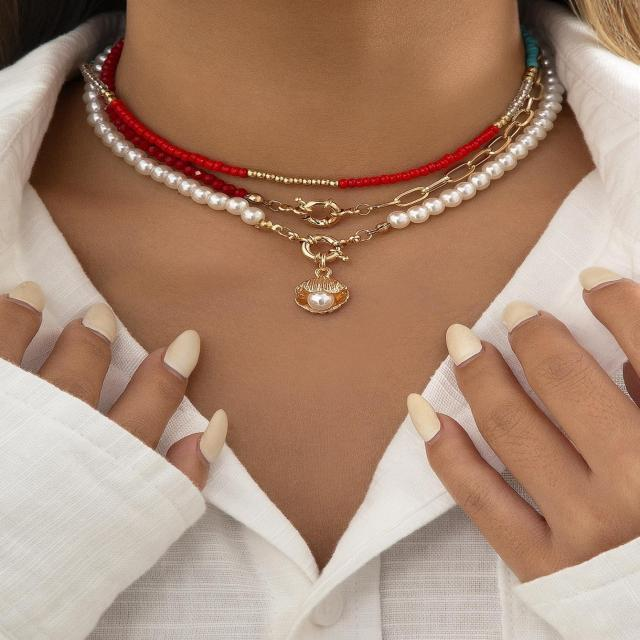Nail: (164, 330, 199, 379), (407, 395, 439, 442), (200, 410, 227, 464), (446, 324, 481, 365), (82, 304, 117, 344), (502, 301, 538, 332), (580, 267, 622, 292), (9, 282, 43, 311)
